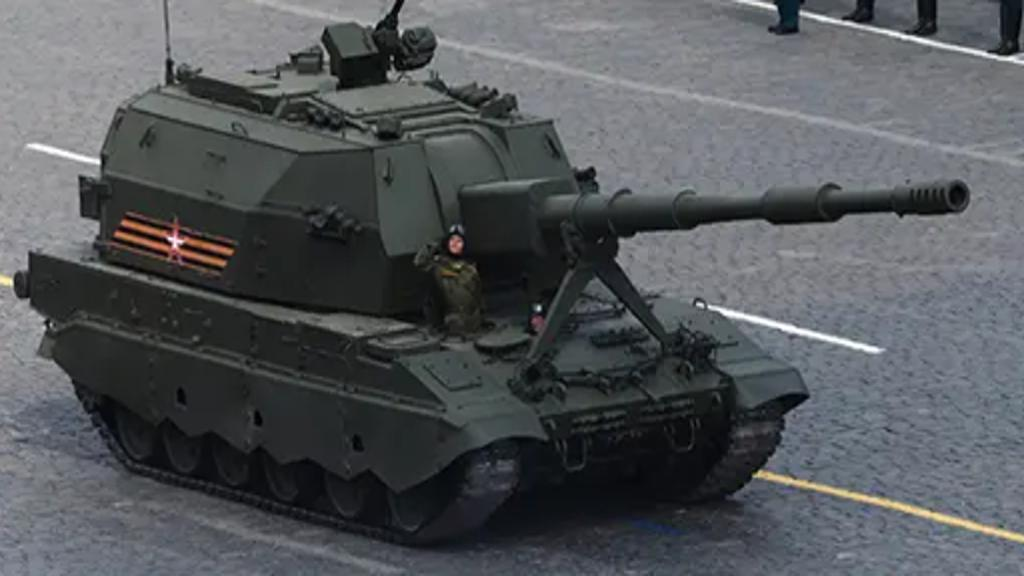ART: (16, 50, 970, 544)
